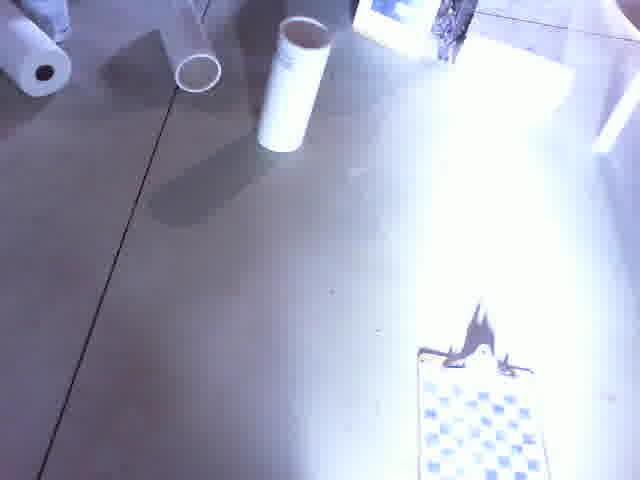coral: (256, 17, 339, 149), (0, 0, 71, 97), (155, 0, 221, 94)
